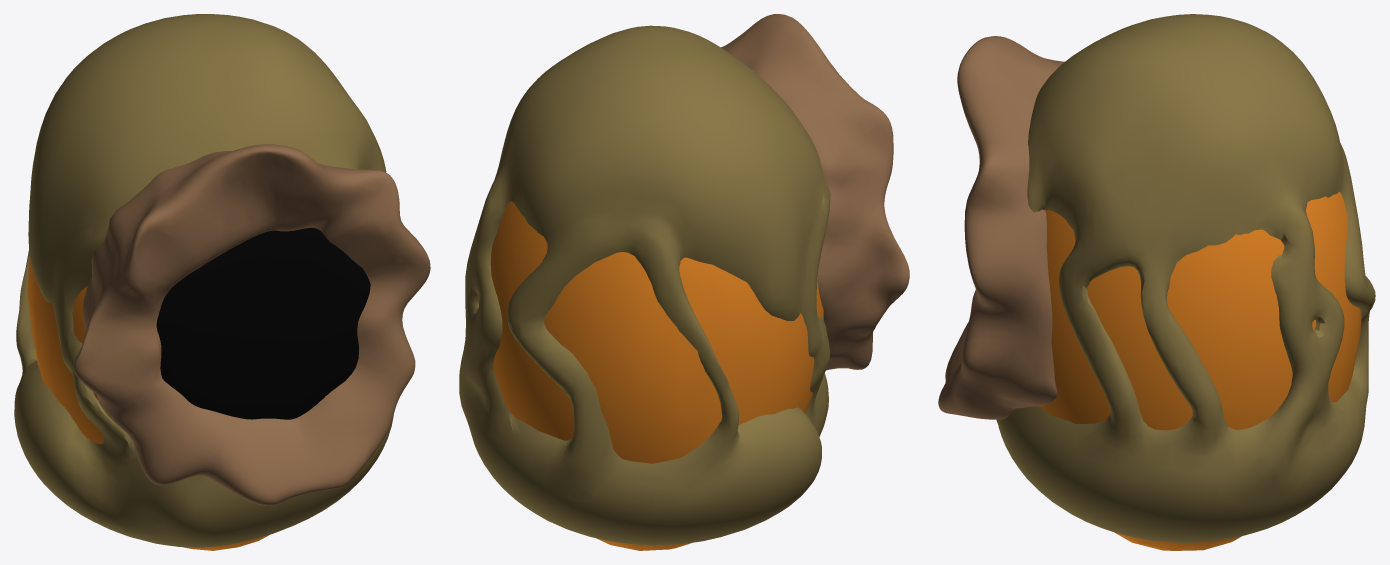
The model's file is Egg_Open.fbx.
3 renders of one model, left to right at view 1: azimuth 30°, elevation 25°; view 2: azimuth 150°, elevation 25°; view 3: azimuth 270°, elevation 25°, orthographic. The views are drawn at different scales.
Parts seen in each view (by area): view 1: Roundcube.004; view 2: Roundcube.004; view 3: Roundcube.004.
Boxes of the visible parts, x1,y1,x2,y2 form: Roundcube.004: [14, 14, 430, 550]; Roundcube.004: [459, 14, 909, 550]; Roundcube.004: [938, 14, 1375, 550].
Bounding box in the file's own units: 1.39 × 1.83 × 1.42.
